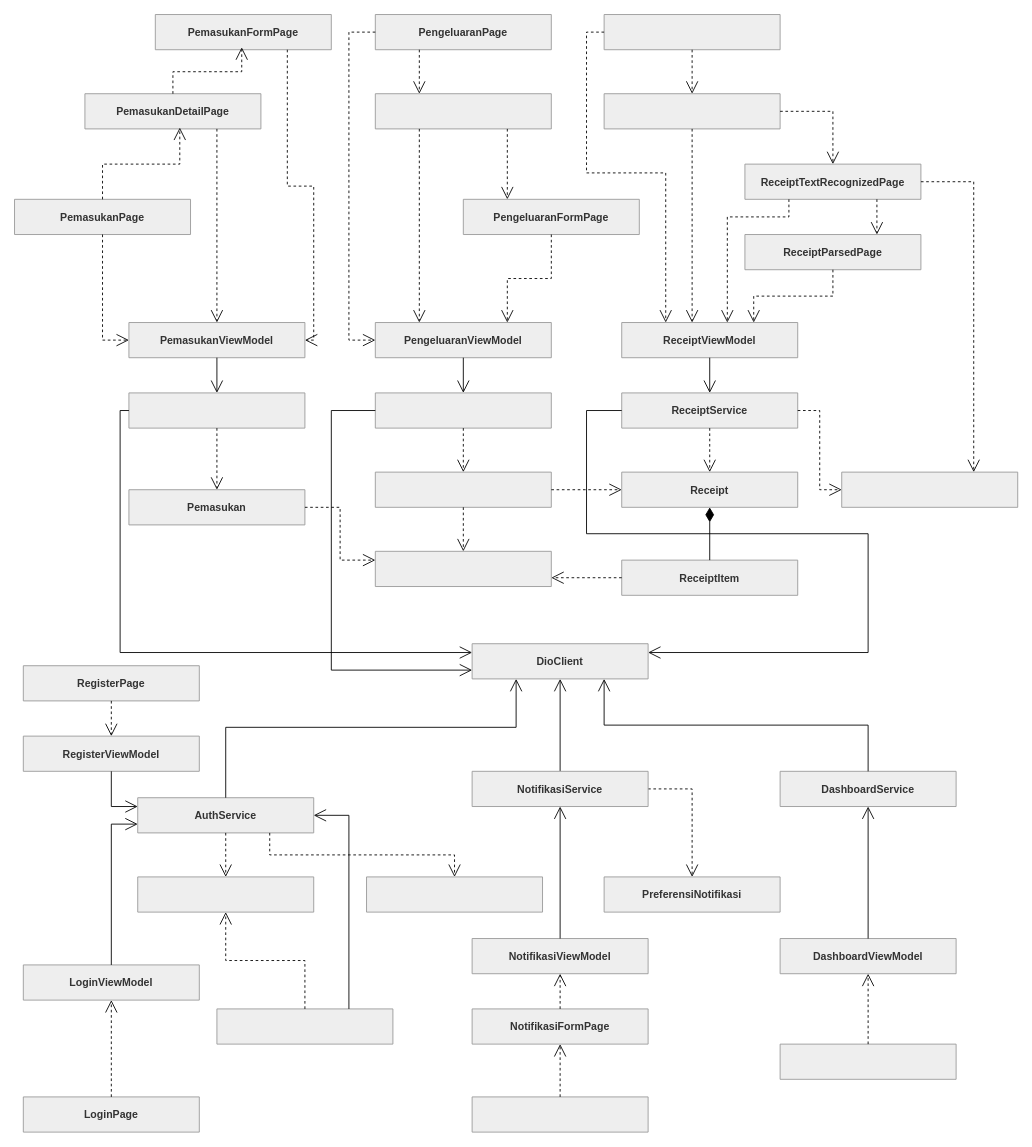
Image size: 1032x1147. Some labels were removed from this diagram. Here are the shapes that lost their labels. From the top down, the centre of each, then its label:
[691,32]: ReceiptScanPage
[462,111]: PengeluaranDetailPage
[691,111]: ReceiptUploadPage
[216,410]: PemasukanService
[462,410]: PengeluaranService
[462,489]: Pengeluaran
[929,489]: RecognizedText
[462,568]: Kategori
[225,894]: Pengguna
[454,894]: AuthToken
[304,1026]: AuthViewModel
[867,1061]: DashboardPage
[559,1114]: NotifikasiPage
